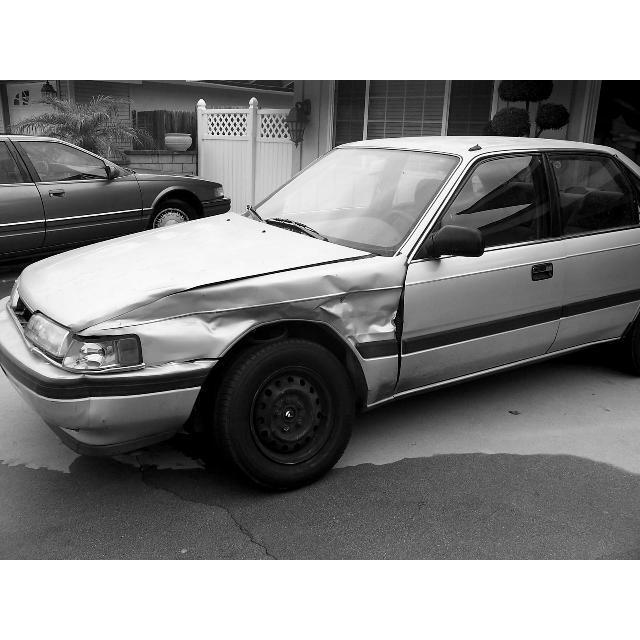fender-dent: (160, 271, 404, 360)
